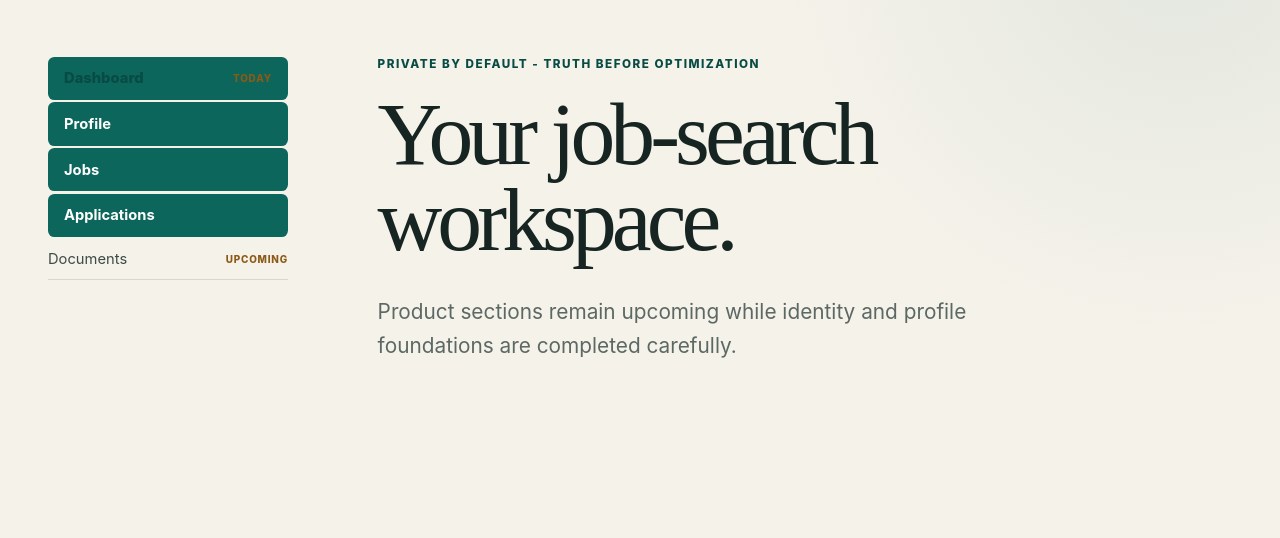
Test: candidate profile workspace › renders the 404 empty state and creates a profile without owner fields
Click the button "Profile" at (168, 124), box [48,102,288,146]
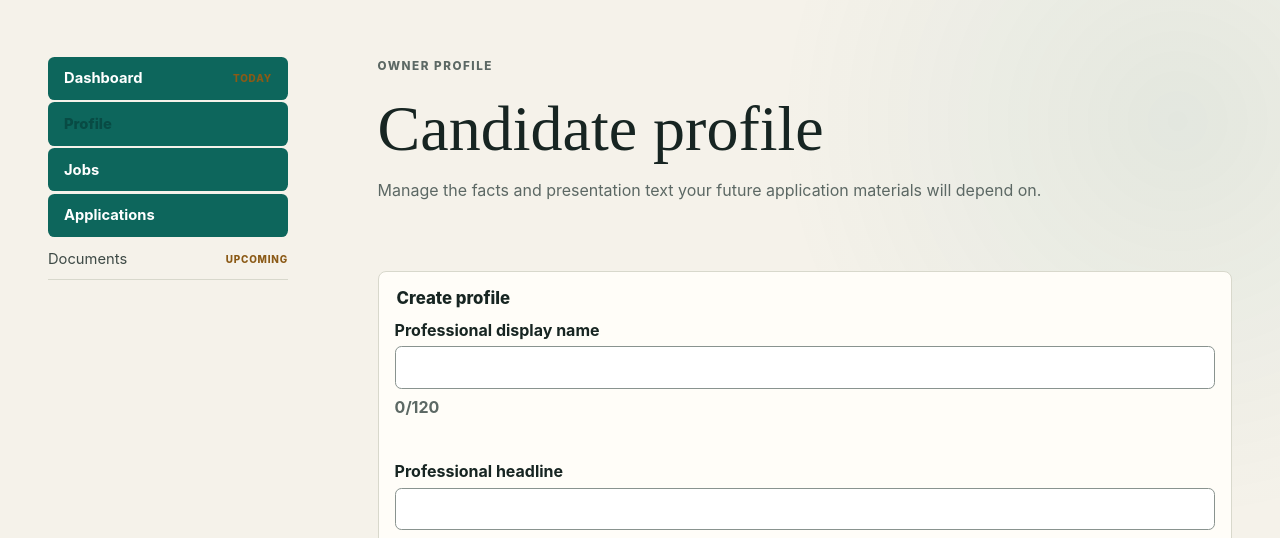
Type "Ada Candidate" into the field labelled "Professional display name 0/120" at (805, 368), box [395,346,1215,389]
(page scrolled)
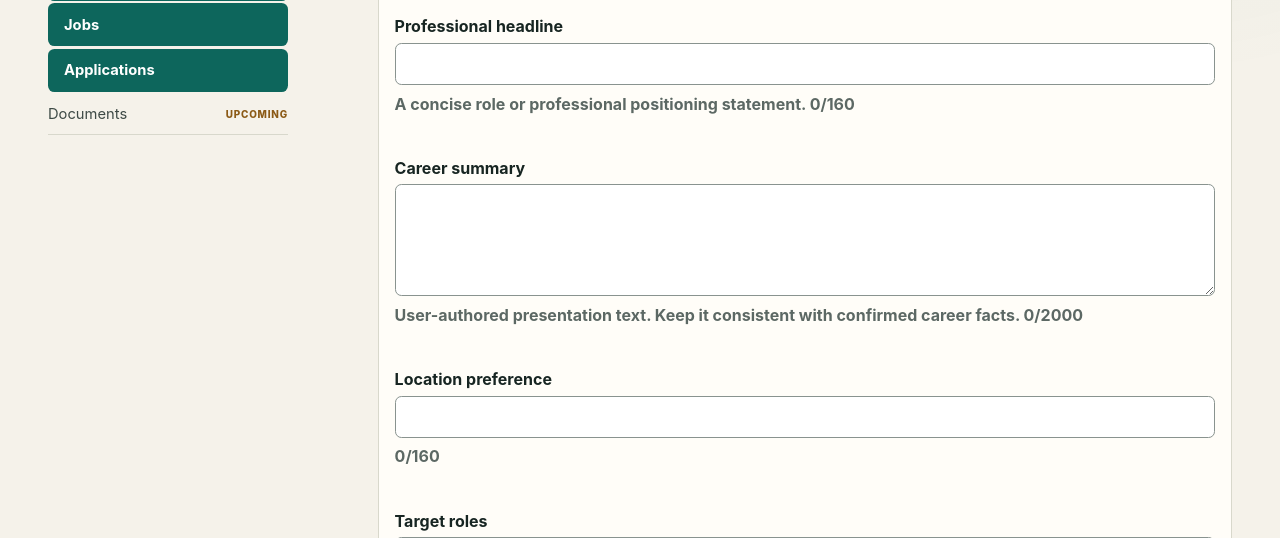
Type "Truthful summary" into the text box labelled "Career summary" at (805, 240), box [395,184,1215,296]
(page scrolled)
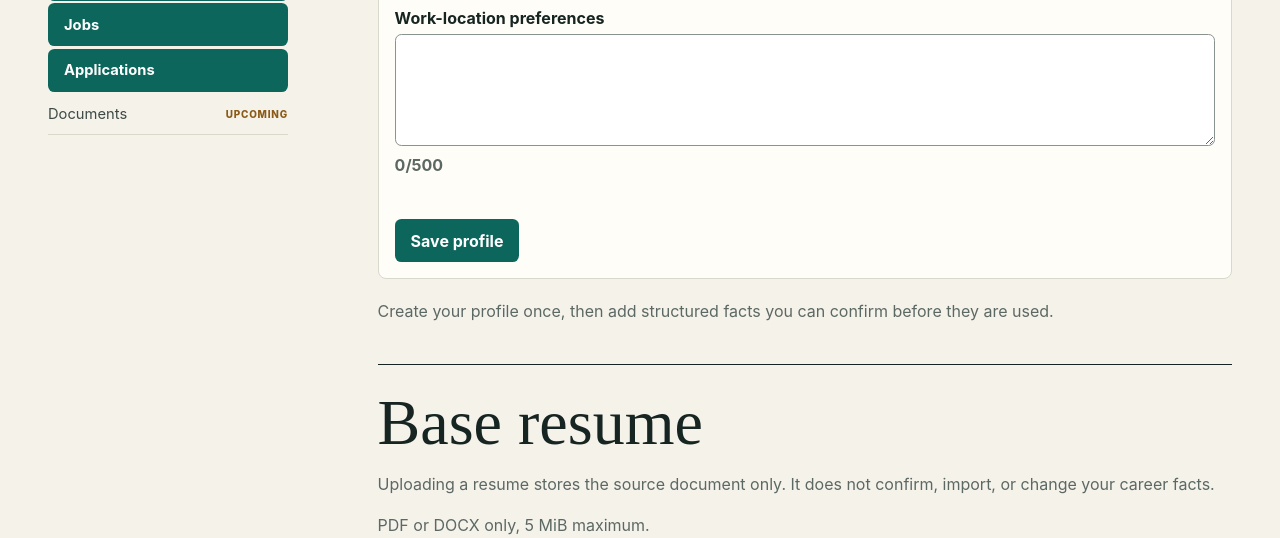
Click the button "Save profile" at (457, 241), box [395,219,519,262]
(page scrolled)
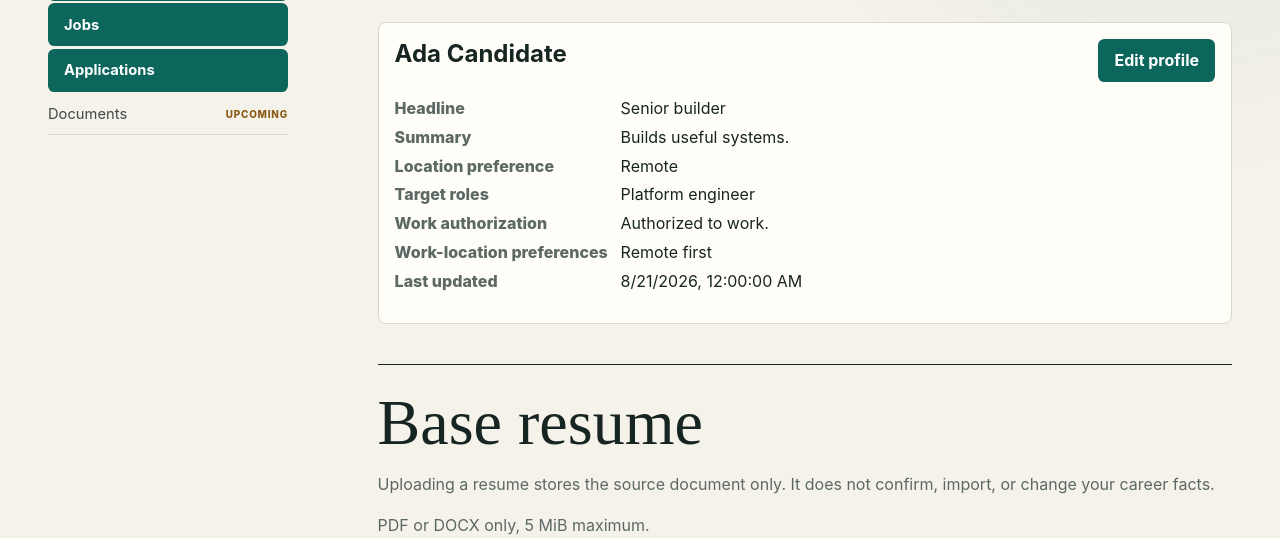
Check: the heading "Ada Candidate" is shown, box [395,39,567,68]
